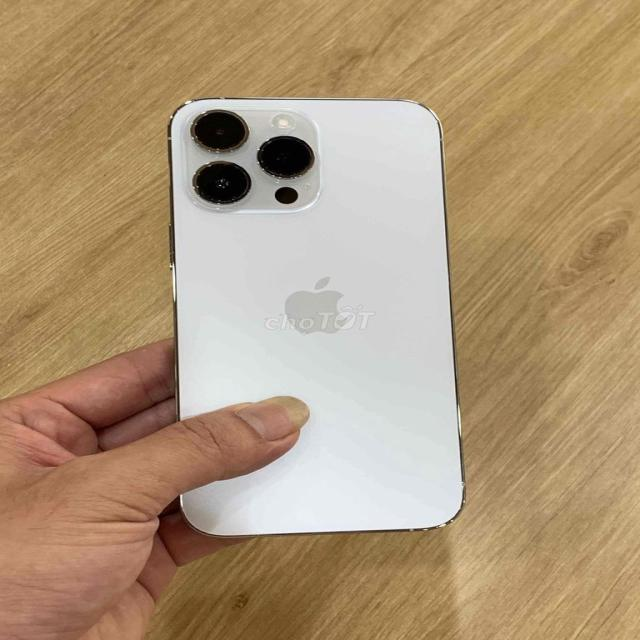gen_14: (151, 92, 472, 547)
